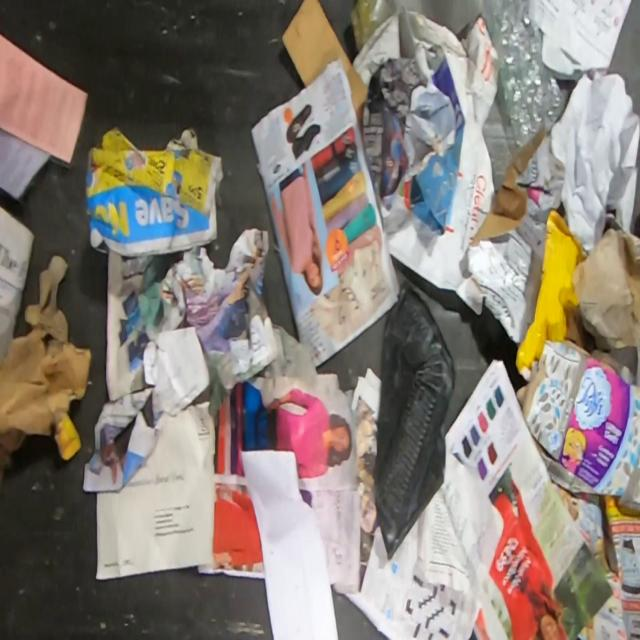cardboard: (516, 337, 640, 512), (465, 127, 565, 342), (0, 256, 92, 485), (279, 0, 369, 121), (410, 52, 466, 235), (572, 227, 640, 354)
rigid_plastic: (373, 279, 455, 560)
soft_plastic: (476, 0, 564, 149), (348, 0, 478, 48)
